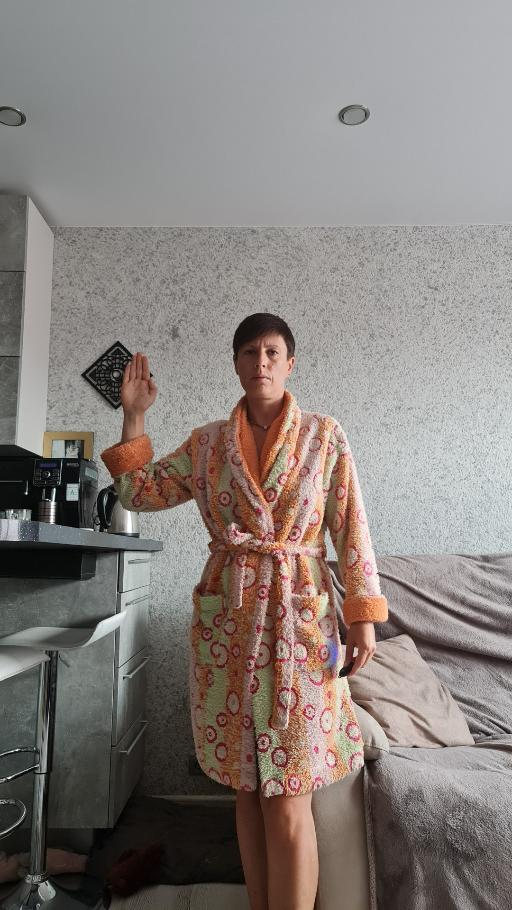no_gesture: (340, 618, 377, 679)
stop: (119, 349, 157, 414)
